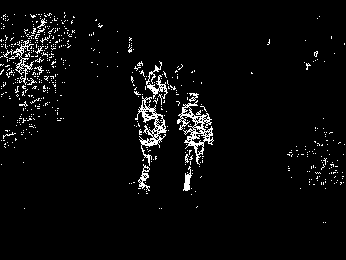person: (177, 92, 214, 192), (135, 100, 166, 192), (131, 59, 149, 103), (150, 60, 169, 99), (173, 60, 186, 97)
